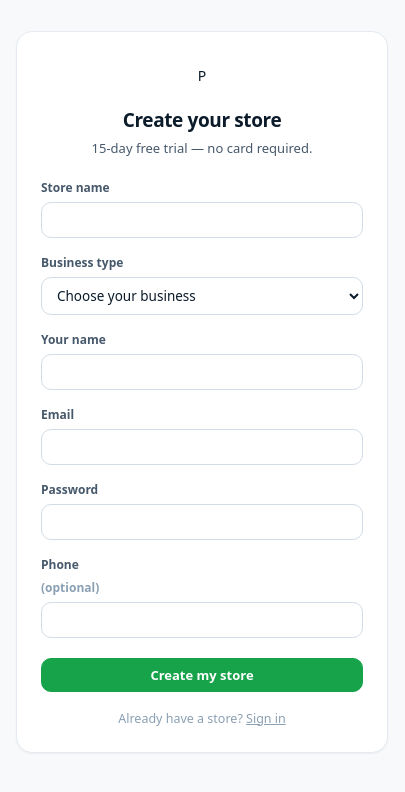
Scenario: RegisterPage › reports backend validation errors inline
Type "Nile Grocers" into the field labelled "Store name". click: (202, 220)
box: 41,202 -> 363,238
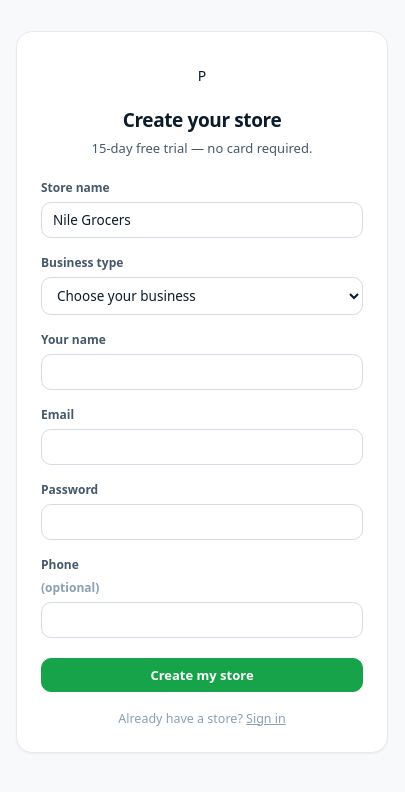
Select "Grocery" in the dropdown labelled "Business type". click: (202, 296)
box: 41,277 -> 363,315
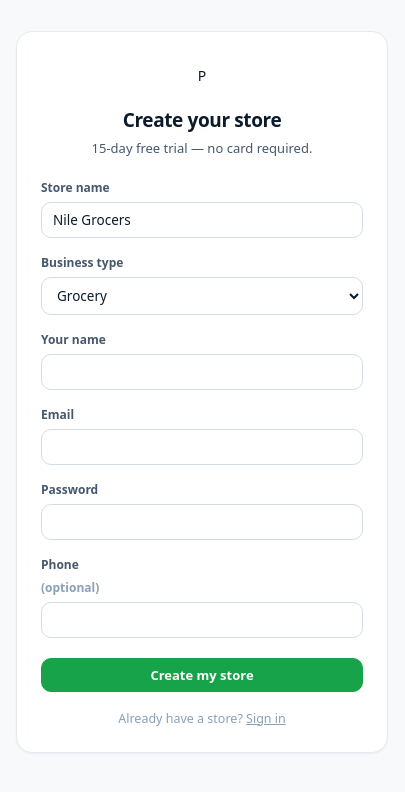
Type "Nadia" into the field labelled "Your name". click: (202, 372)
box: 41,354 -> 363,390
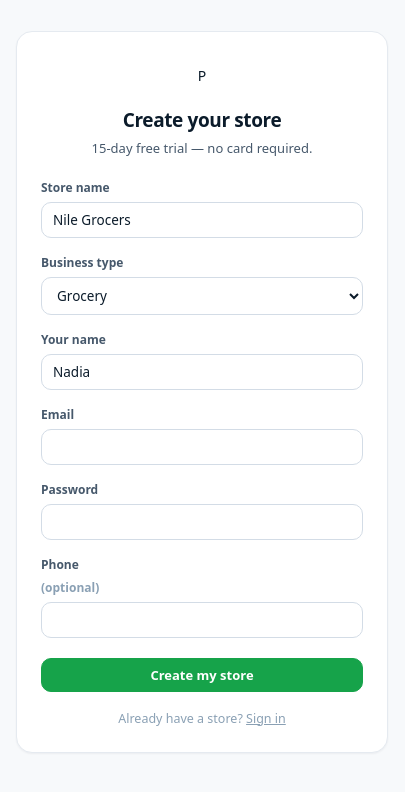
Type "nadia@nile.example" into the field labelled "Email". click: (202, 447)
box: 41,429 -> 363,465
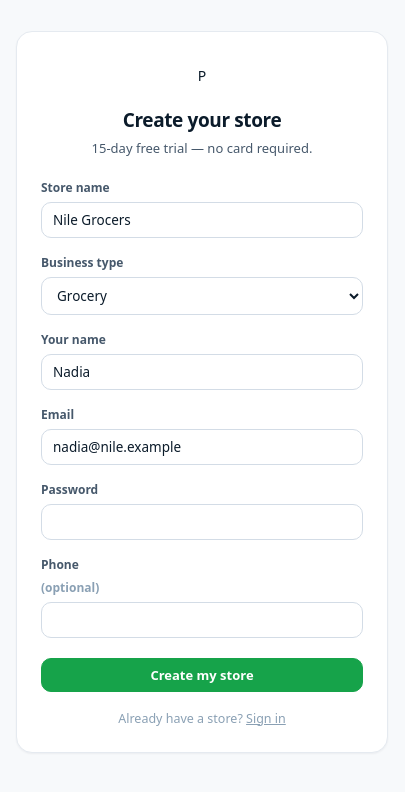
Type "supersecret1" into the password field labelled "Password". click: (202, 522)
box: 41,504 -> 363,540
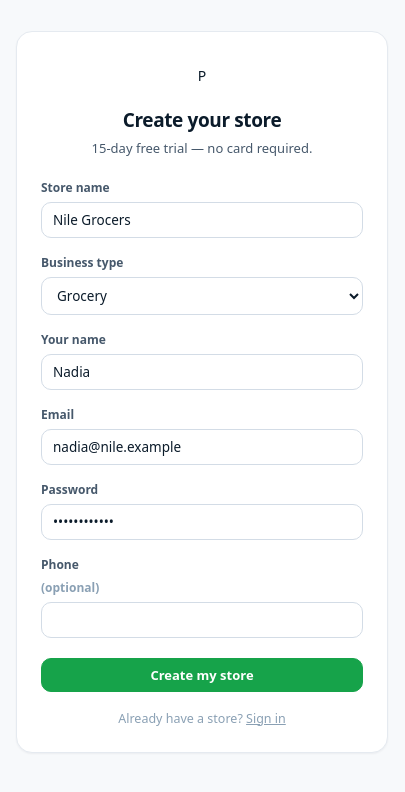
Click the button "Create my store". click: (202, 675)
box: 41,658 -> 363,692
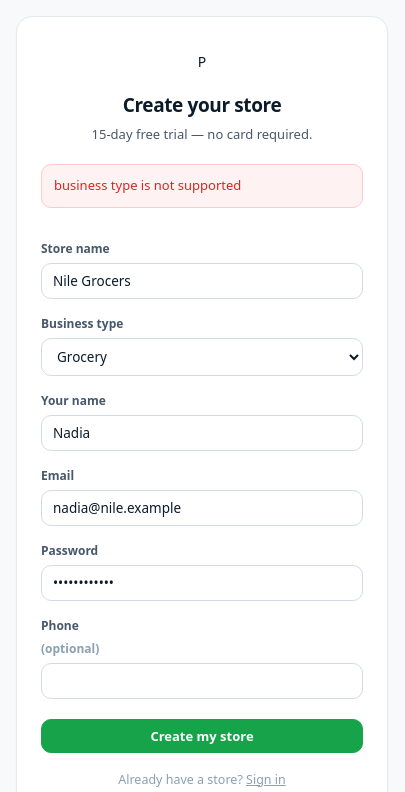
Expected: the button "Create my store" is enabled, 41,718 -> 363,752
Expected: the message reads "business type is not supported", 54,176 -> 241,194
